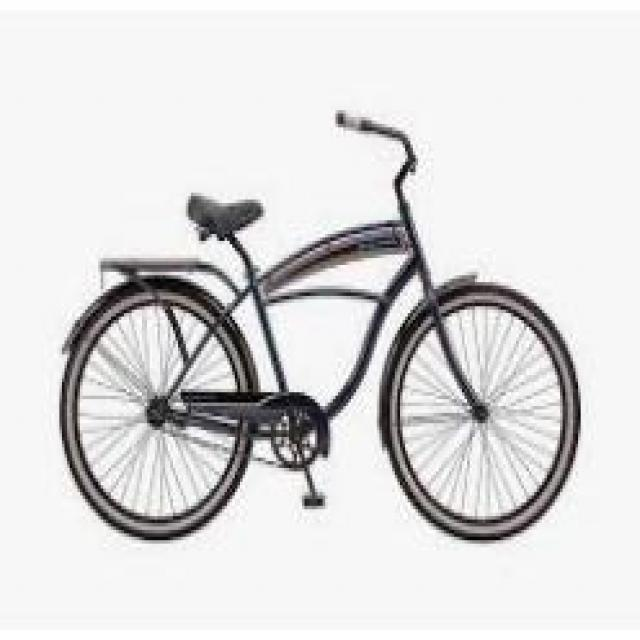bicycle: (71, 94, 595, 548)
